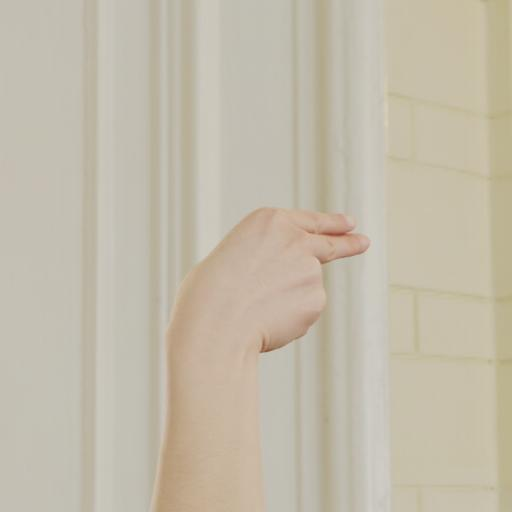H: (148, 168, 390, 402)
